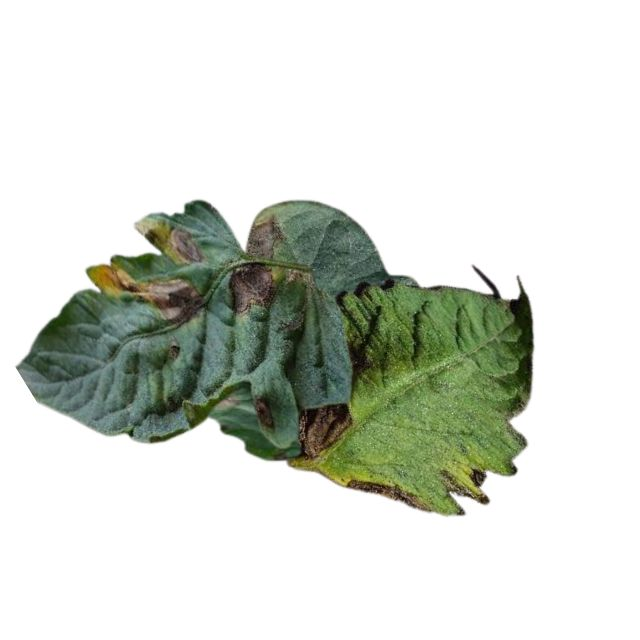Early_blight: (91, 262, 203, 326), (346, 477, 432, 515), (298, 404, 353, 461), (229, 264, 276, 317), (246, 208, 286, 261), (164, 224, 204, 263), (251, 390, 275, 430), (467, 465, 487, 487)
